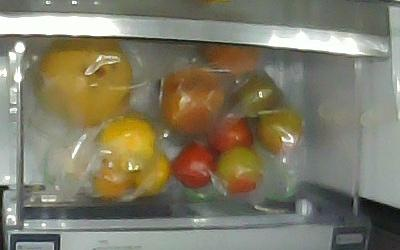peach_vinyl: (157, 69, 223, 134), (194, 45, 258, 75)
pear_vinyl: (36, 38, 132, 126)
tangerine_vinyl: (101, 115, 155, 169), (92, 160, 133, 199), (135, 152, 170, 196)
tomato_vinyl: (230, 72, 282, 120), (170, 140, 217, 189), (216, 147, 264, 194), (255, 110, 303, 155), (208, 115, 253, 152)
